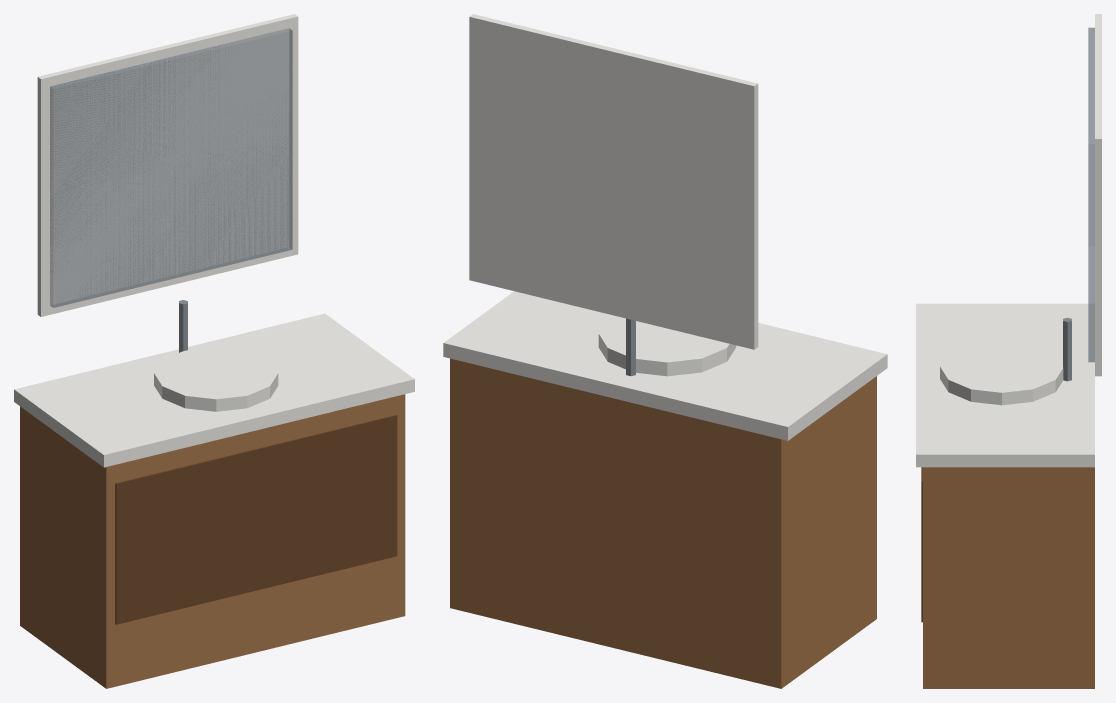
The model's file is Vanity.glb.
3 views of the same model, side by side, from view 1: azimuth 30°, elevation 25°; view 2: azimuth 150°, elevation 25°; view 3: azimuth 270°, elevation 25° (orthographic). The views are drawn at different scales.
Parts seen in each view (by area): view 1: Vanity; view 2: Vanity; view 3: Vanity.
Part boxes in pixels (left/top/right/bottom): Vanity: left=14, top=14, right=414, bottom=688; Vanity: left=443, top=14, right=887, bottom=688; Vanity: left=916, top=14, right=1101, bottom=688.
Size of the model in its own units: 1.04 by 1.73 by 0.54.
Materials: 2 (1 with a texture image).
